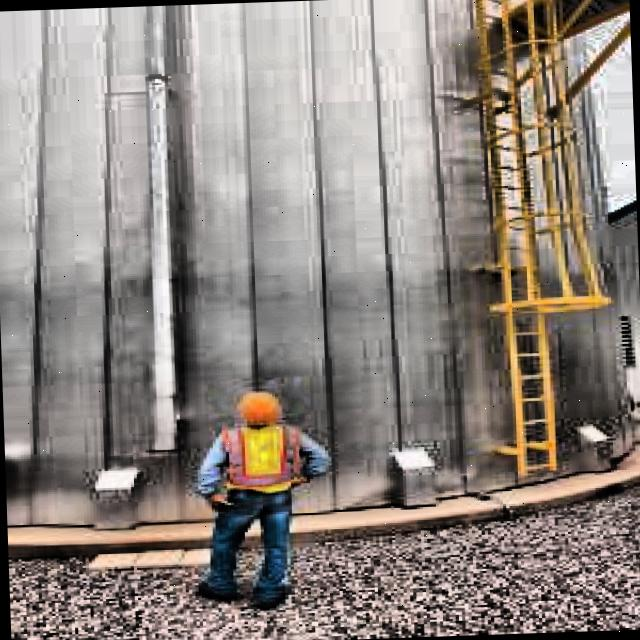helmet: (236, 390, 289, 444)
